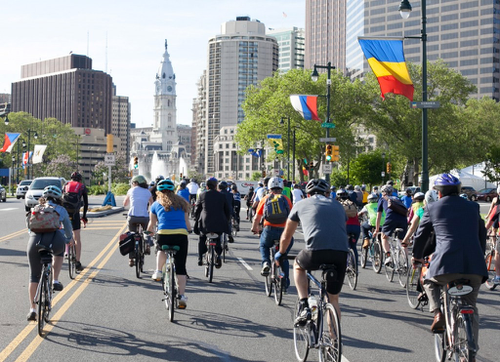bikerider: (413, 167, 491, 362), (280, 175, 350, 362), (20, 183, 78, 333), (145, 174, 200, 325), (251, 173, 290, 306), (52, 170, 95, 283), (186, 172, 228, 283), (370, 181, 411, 287), (119, 173, 157, 281), (326, 185, 363, 294)
